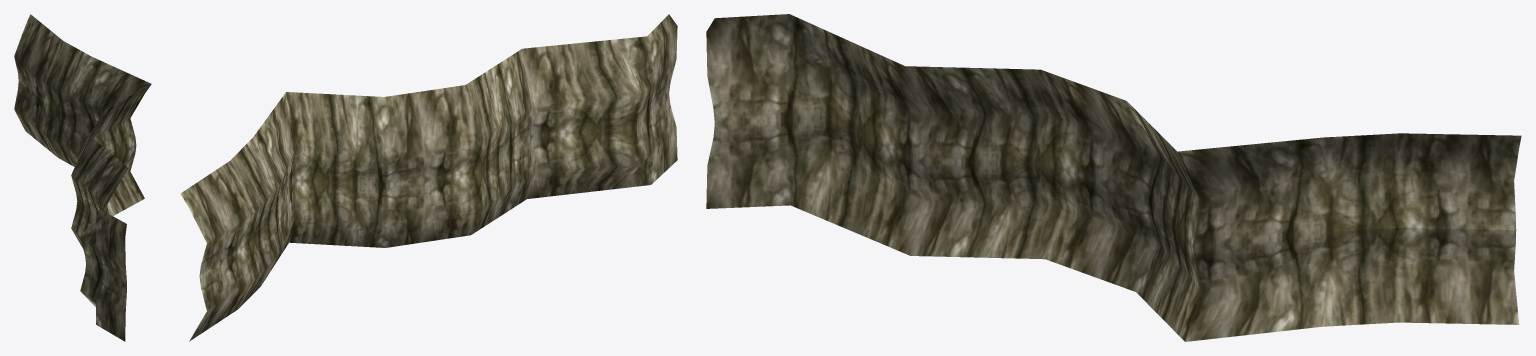
The model's file is CB_NEWPLAYSURFACE_CB_PLAYSURFACE46.fbx.
3 views of the same model, side by side, from view 1: azimuth 30°, elevation 25°; view 2: azimuth 150°, elevation 25°; view 3: azimuth 270°, elevation 25° (orthographic). The views are drawn at different scales.
Parts seen in each view (by area): view 1: CB_NEWPLAYSURFACE_CB_PLAYSURFACE46; view 2: CB_NEWPLAYSURFACE_CB_PLAYSURFACE46; view 3: CB_NEWPLAYSURFACE_CB_PLAYSURFACE46.
Boxes of the visible parts, box(x1,y1,x2,y2) form: CB_NEWPLAYSURFACE_CB_PLAYSURFACE46: box(14, 14, 151, 341); CB_NEWPLAYSURFACE_CB_PLAYSURFACE46: box(180, 14, 677, 341); CB_NEWPLAYSURFACE_CB_PLAYSURFACE46: box(706, 14, 1521, 341).
Size of the model in its own units: 116649 by 73541 by 279858.
Materials: 1 (1 with a texture image).
